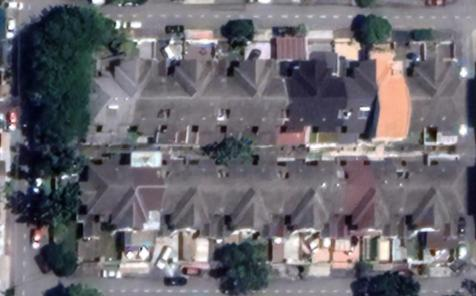building: (74, 57, 161, 152), (278, 56, 348, 149), (222, 57, 292, 148), (339, 59, 413, 142), (77, 162, 162, 232), (399, 151, 467, 238), (159, 58, 220, 150), (404, 58, 467, 141), (278, 155, 340, 239), (160, 160, 225, 237), (341, 156, 400, 240), (224, 158, 281, 238)
